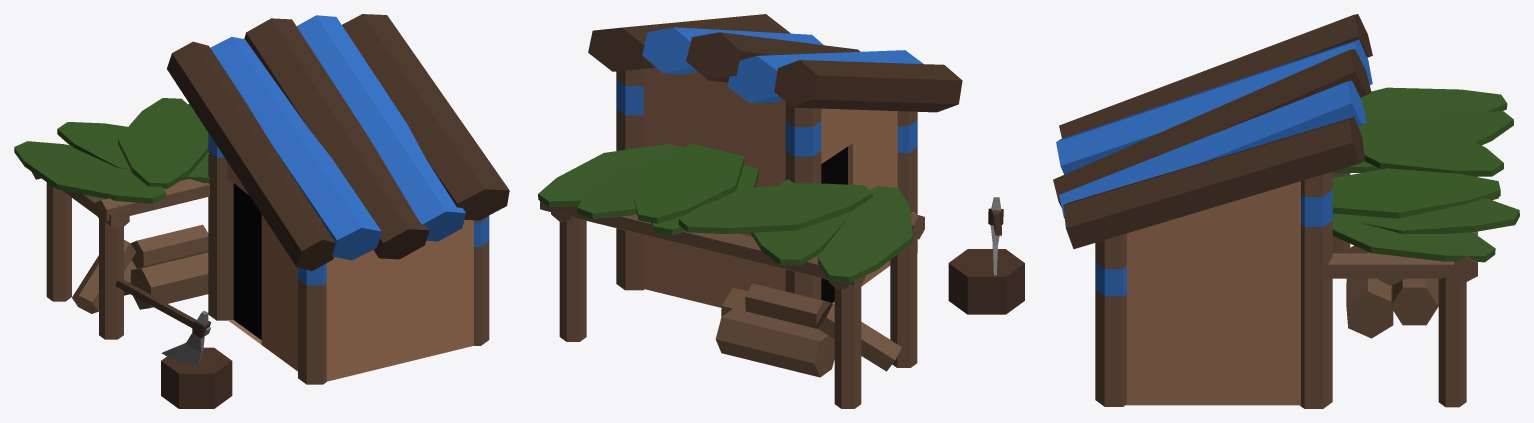
File: Woodcutter Hut LvL 3.fbx
The picture shows the model from 3 angles, left to right: view 1: azimuth 30°, elevation 25°; view 2: azimuth 150°, elevation 25°; view 3: azimuth 270°, elevation 25°; orthographic projection. The views are drawn at different scales.
Parts seen in each view (by area): view 1: Hut 3, TeamColorObj 3; view 2: Hut 3, TeamColorObj 3; view 3: Hut 3, TeamColorObj 3.
Boxes of the visible parts, x1,y1,x2,y2 form: Hut 3: [14, 14, 509, 408]; TeamColorObj 3: [208, 15, 489, 285]; Hut 3: [538, 14, 1024, 408]; TeamColorObj 3: [616, 27, 923, 156]; Hut 3: [1053, 14, 1519, 408]; TeamColorObj 3: [1056, 39, 1372, 296].
Size of the model in its own units: 131 by 105 by 145.
